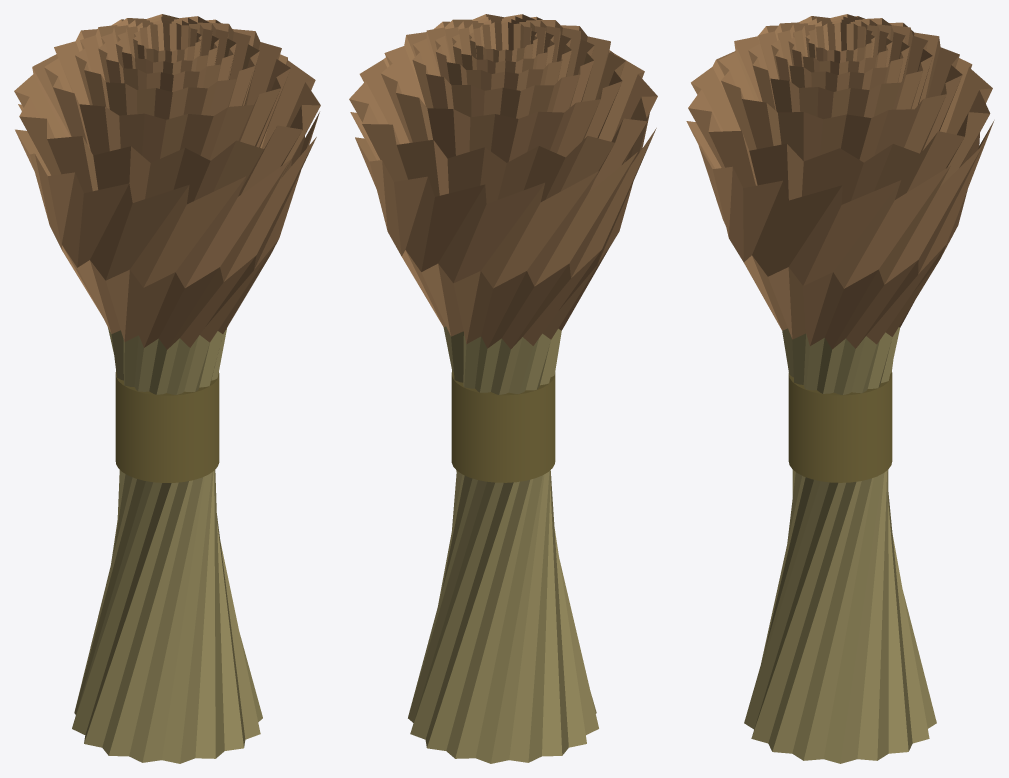
File: rye.fbx
The picture shows the model from 3 angles, left to right: view 1: azimuth 30°, elevation 25°; view 2: azimuth 150°, elevation 25°; view 3: azimuth 270°, elevation 25°; orthographic projection.
Parts seen in each view (by area): view 1: rye; view 2: rye; view 3: rye.
Part boxes in pixels (bbox=[...]): rye: bbox=[14, 14, 320, 763]; rye: bbox=[349, 14, 657, 763]; rye: bbox=[686, 14, 994, 763].
Size of the model in its own units: 320 by 785 by 320.
